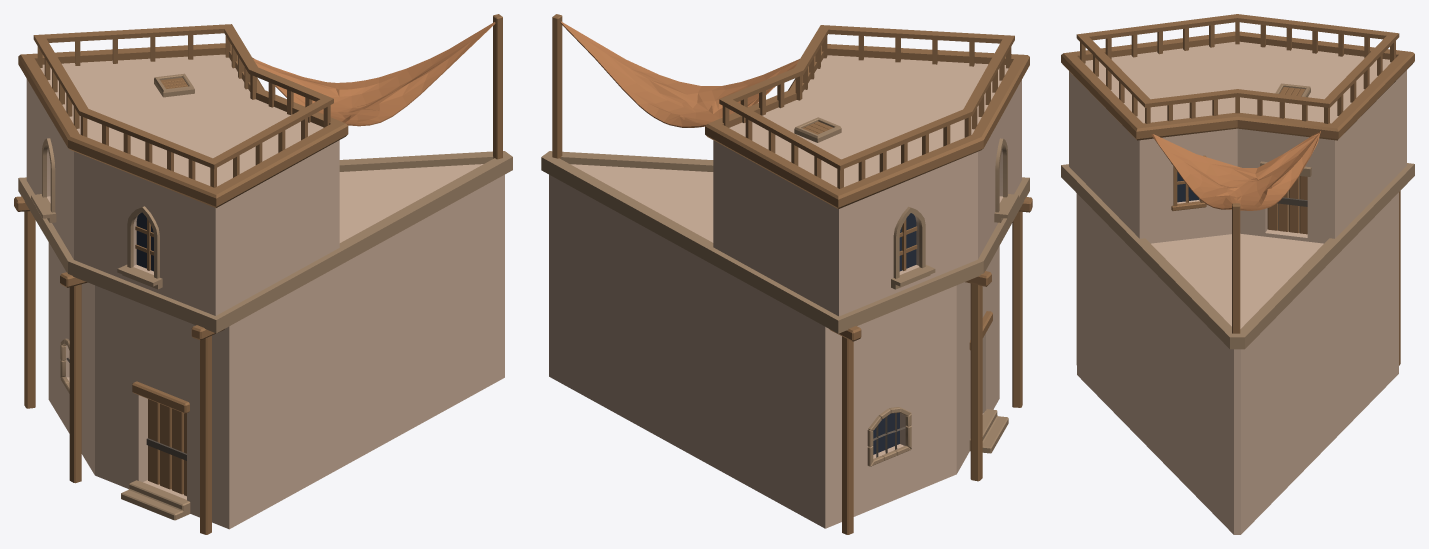
The model's file is civilian_house_30_d.glb.
The picture shows the model from 3 angles, left to right: view 1: azimuth 30°, elevation 25°; view 2: azimuth 150°, elevation 25°; view 3: azimuth 270°, elevation 25°; orthographic projection. The views are drawn at different scales.
Visible parts, largest first — view 1: civilian_house_30_d; view 2: civilian_house_30_d; view 3: civilian_house_30_d.
Part boxes in pixels (x1,y1,x2,y2): civilian_house_30_d: (14,14,512,534); civilian_house_30_d: (541,14,1032,534); civilian_house_30_d: (1061,14,1414,534).
Bounding box in the file's own units: 12.68 × 9.99 × 9.6.
